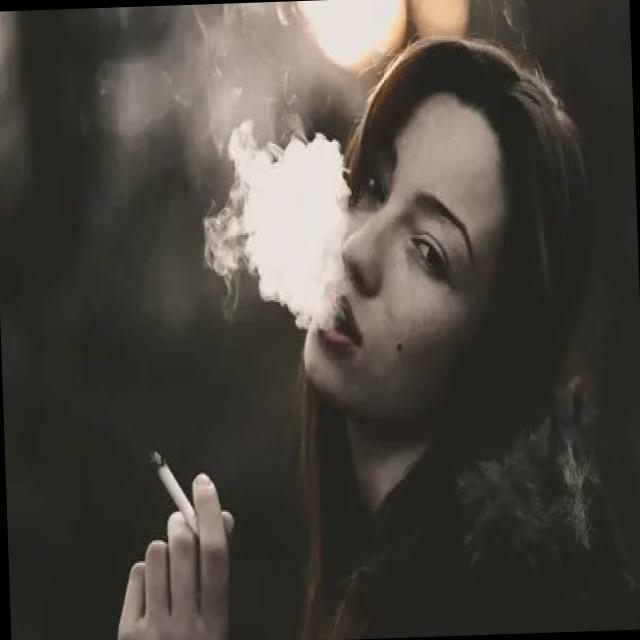cigarette: (144, 444, 203, 546)
